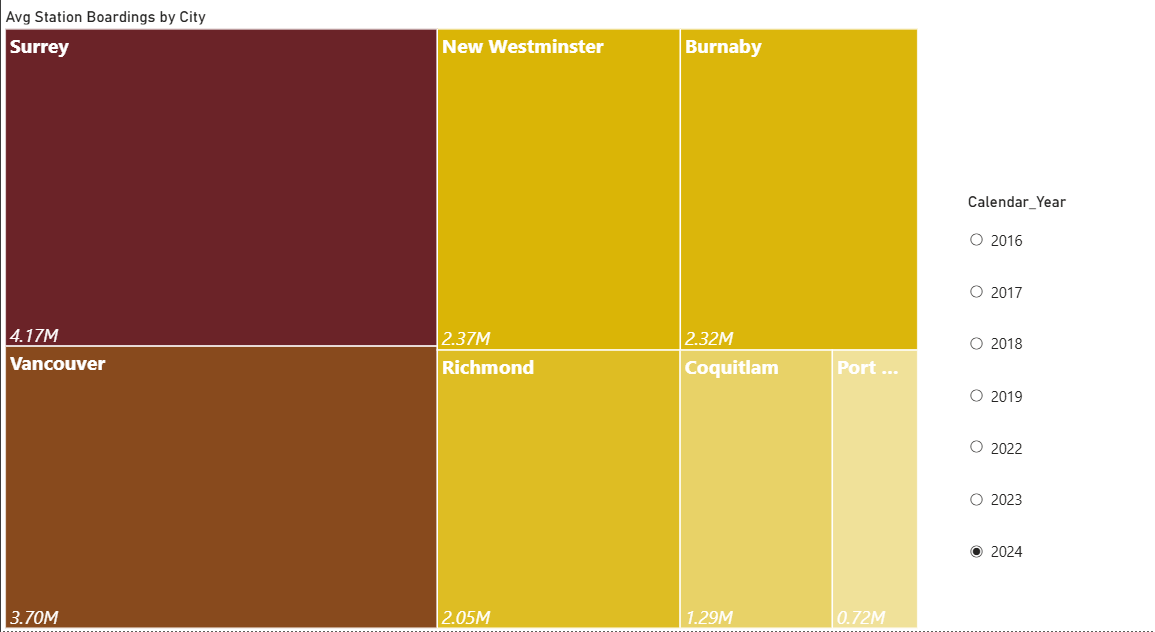

What the dashboard file says about the page in this screenshot:
{"tool":"powerbi","page":{"name":"Average Boardings by City","canvas":[1280,720],"ordinal":4},"visuals":[{"type":"treemap","fields":{"Group":["Sheet1.City"],"Values":["Sheet1.Avg Station Boardings"]},"box":[0,32.9,1011.4,687.1],"z":0},{"type":"listSlicer","fields":{"Values":["Sheet1.Calendar_Year"]},"box":[1057.1,235.7,222.9,484.3],"z":1}]}

Visuals, with their boxes in screenshot pixels (x1, y1, x2, y2), scaled from the page's 1280x720 canvas onto the 1155x632 screenshot:
treemap - Sheet1.City x Sheet1.Avg Station Boardings: [0,29,913,631]
listSlicer - Sheet1.Calendar_Year: [954,207,1154,631]
